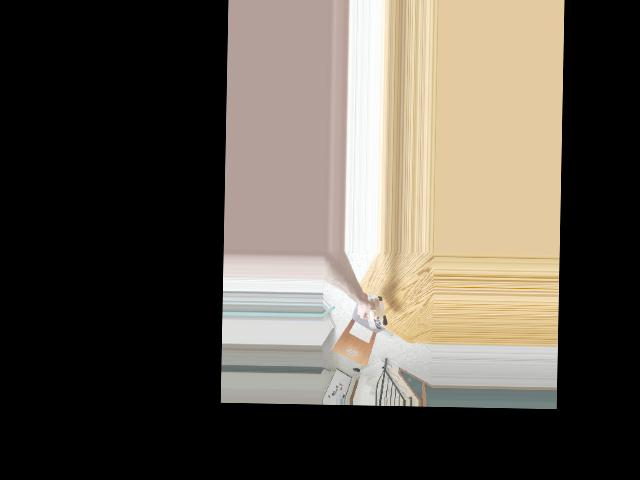cheese: (364, 294, 387, 327)
